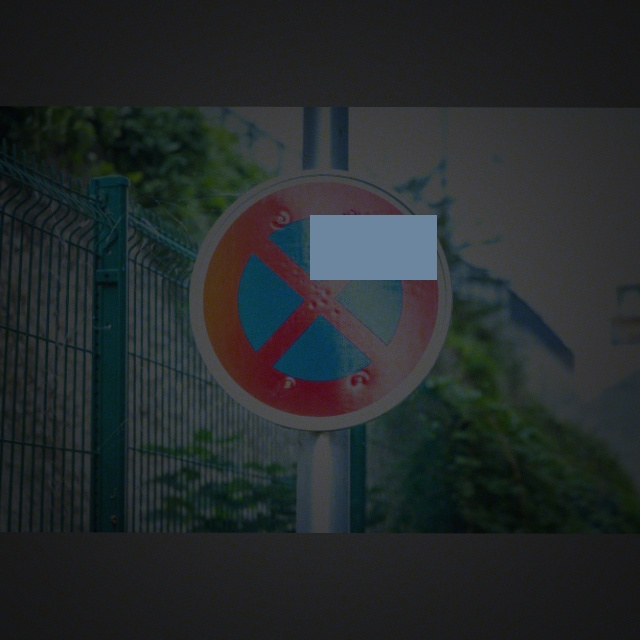No_Stopping_or_Standing: (194, 186, 453, 418)
